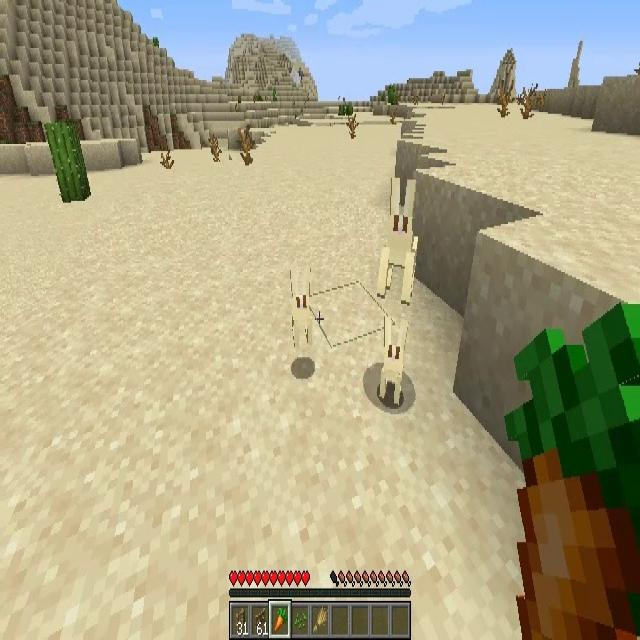rabbit: (376, 178, 419, 304), (288, 271, 322, 360), (382, 319, 406, 406)
